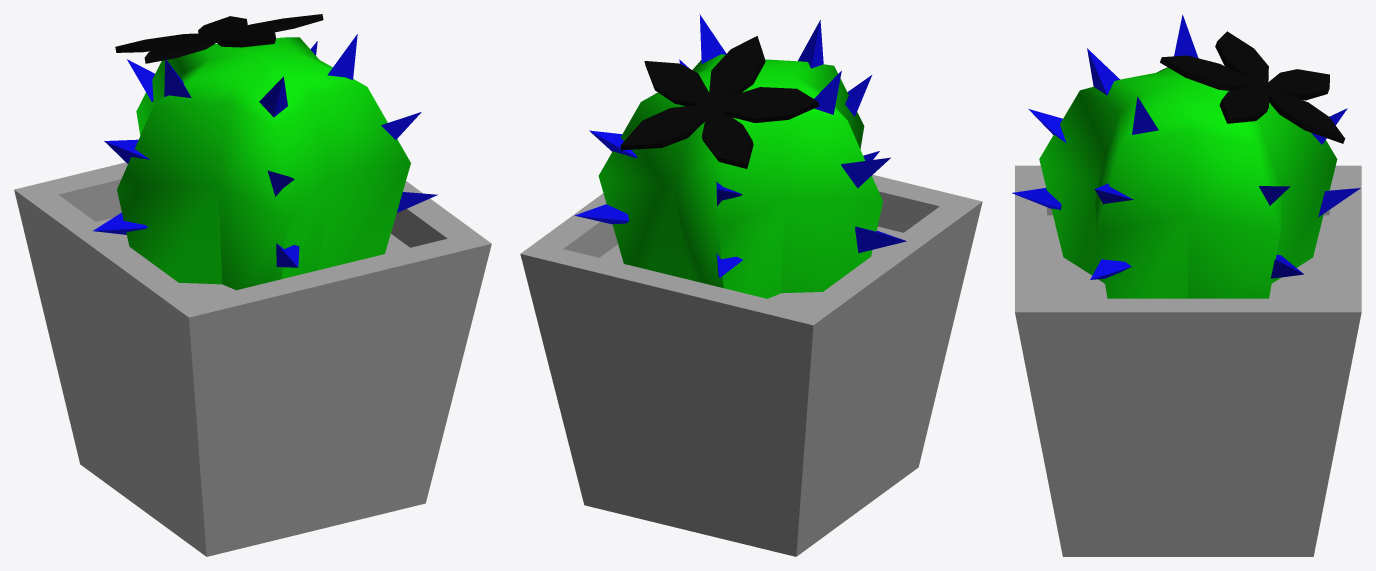
Rendered from cactus_2.fbx.
3 renders of one model, left to right at view 1: azimuth 30°, elevation 25°; view 2: azimuth 150°, elevation 25°; view 3: azimuth 270°, elevation 25°, orthographic. The views are drawn at different scales.
Visible parts, largest first — view 1: cactus2; view 2: cactus2; view 3: cactus2.
Part boxes in pixels (x1=…): cactus2: x1=14, y1=14, x2=491, y2=556; cactus2: x1=520, y1=14, x2=982, y2=556; cactus2: x1=1012, y1=14, x2=1361, y2=556.
Size of the model in its own units: 72.69 by 101 by 71.26.
